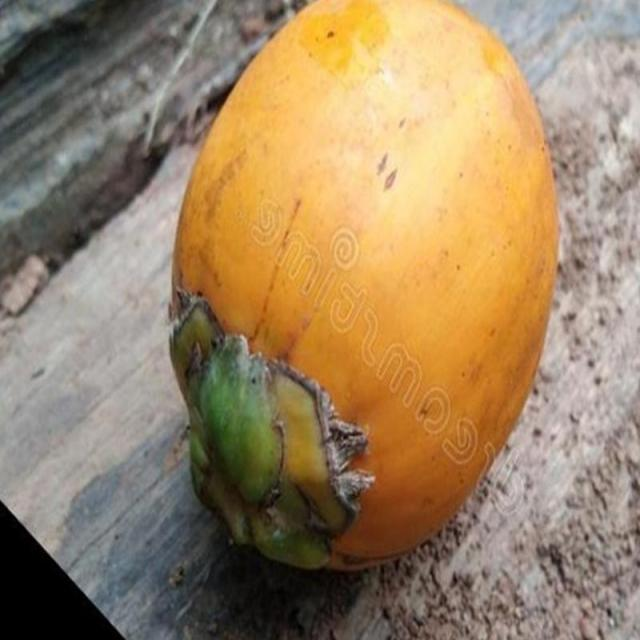good: (168, 0, 559, 575)
